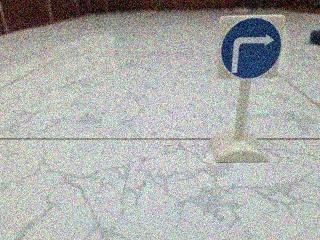right: (200, 10, 293, 88)
